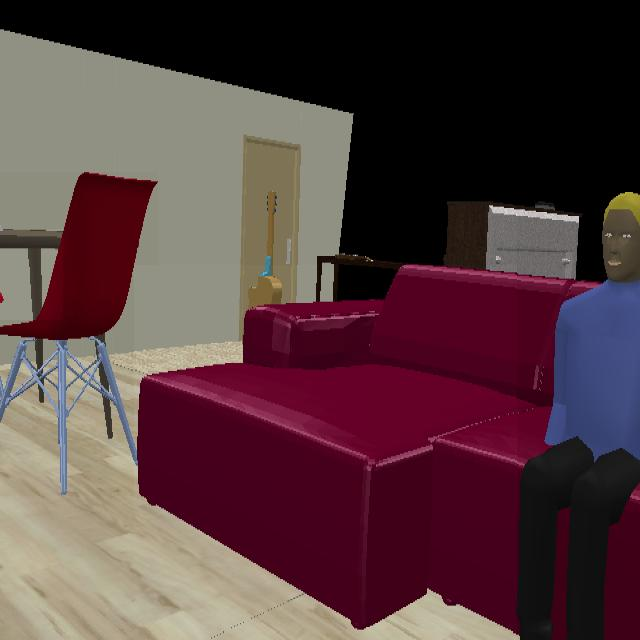chair: (0, 172, 158, 496)
person: (517, 192, 640, 640)
sofa: (134, 265, 597, 632)
table: (0, 229, 63, 319)
